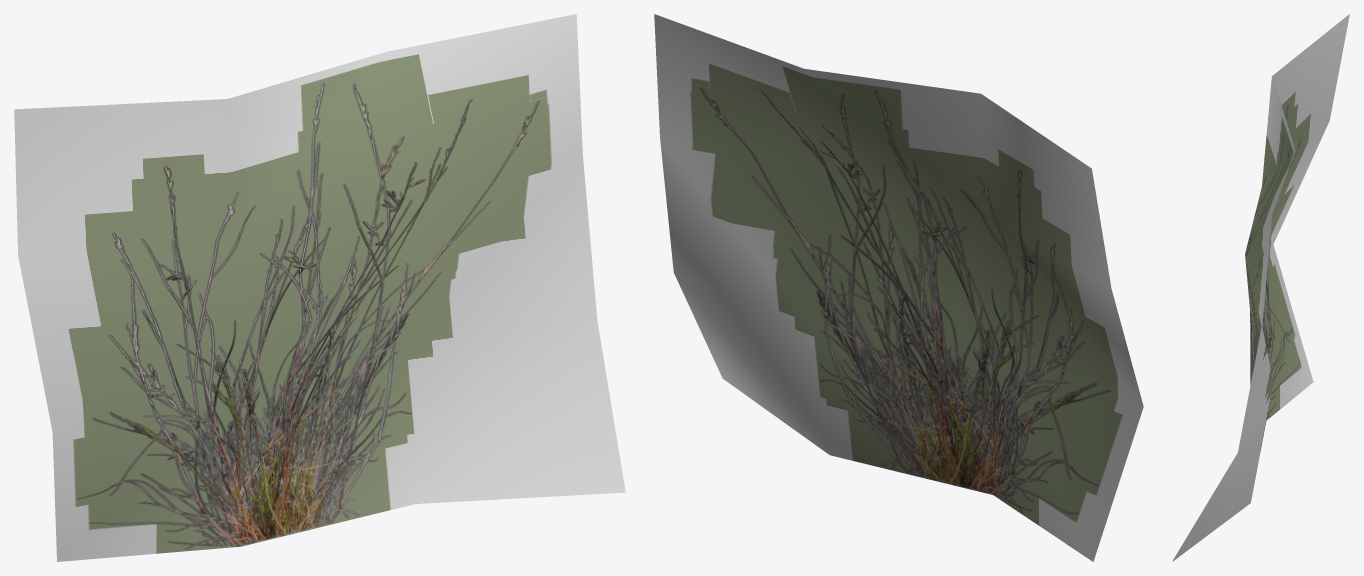
The model's file is Grass_ (13).FBX.
3 renders of one model, left to right at view 1: azimuth 30°, elevation 25°; view 2: azimuth 150°, elevation 25°; view 3: azimuth 270°, elevation 25°, orthographic. The views are drawn at different scales.
Parts seen in each view (by area): view 1: Grass_ (13); view 2: Grass_ (13); view 3: Grass_ (13).
Part boxes in pixels (x1=…): Grass_ (13): x1=14, y1=14, x2=625, y2=561; Grass_ (13): x1=654, y1=14, x2=1143, y2=561; Grass_ (13): x1=1172, y1=14, x2=1349, y2=561.
Size of the model in its own units: 62.46 by 22.54 by 50.87.
1 material, 1 textured.
